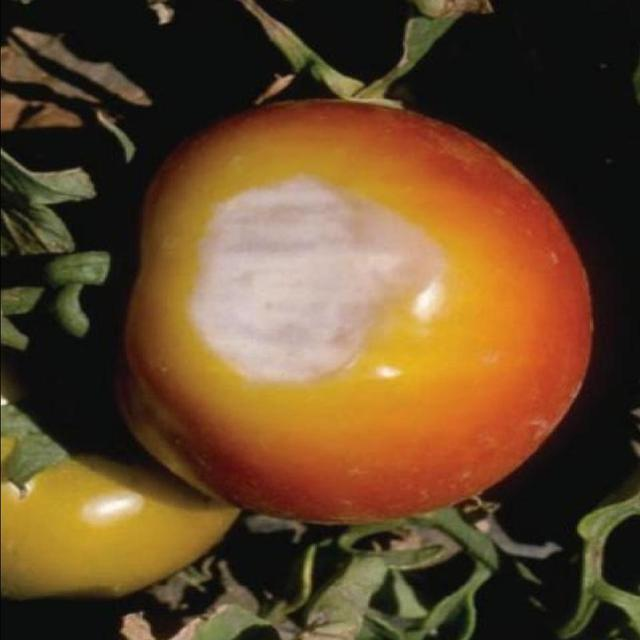Sunscald Fruit: (128, 109, 324, 265)
